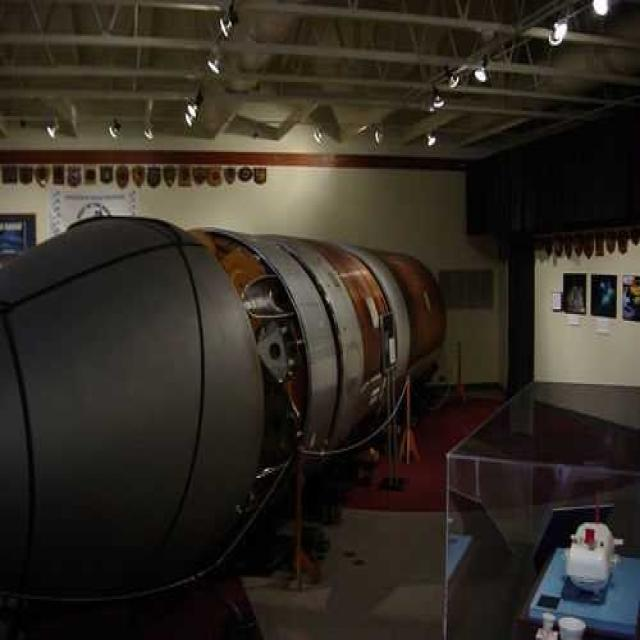missile: (5, 212, 447, 592)
